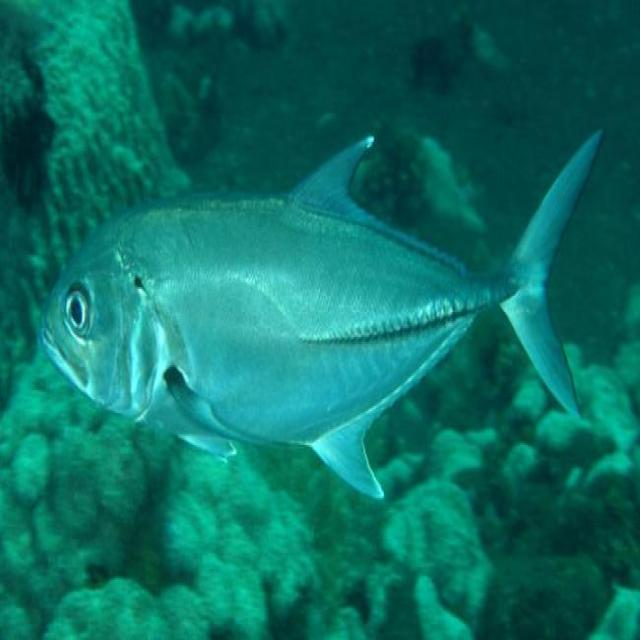ikan: (38, 120, 604, 502)
